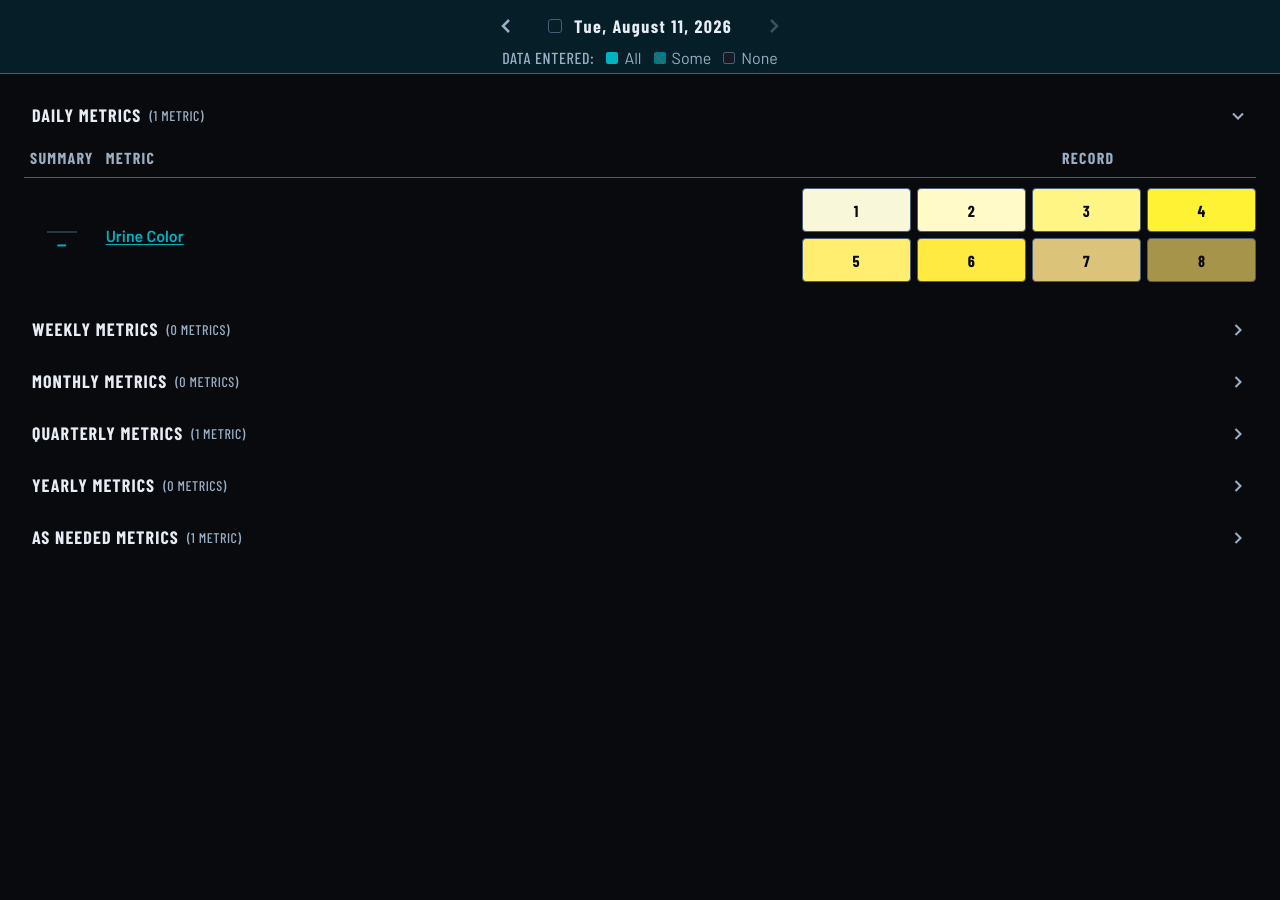
Scenario: MetricsDataEntryLog › groups a schedule-less competition metric under As Needed
Step 1. Click the button "As Needed Metrics (1 metric)" → point(105, 537), box top-left (24, 516), bottom-right (1256, 560)
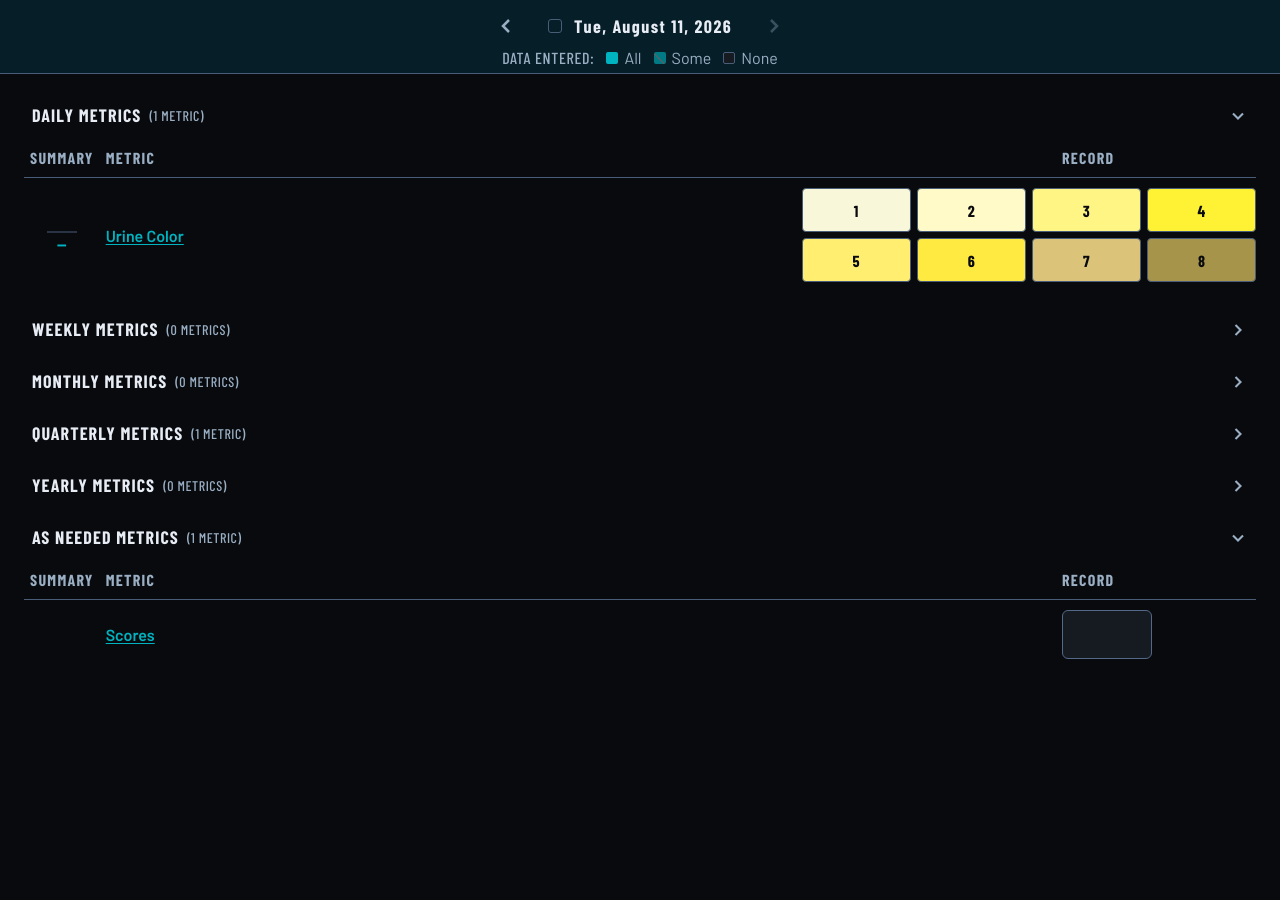
Check: the link "Scores" is shown, box top-left (106, 625), bottom-right (155, 649)
